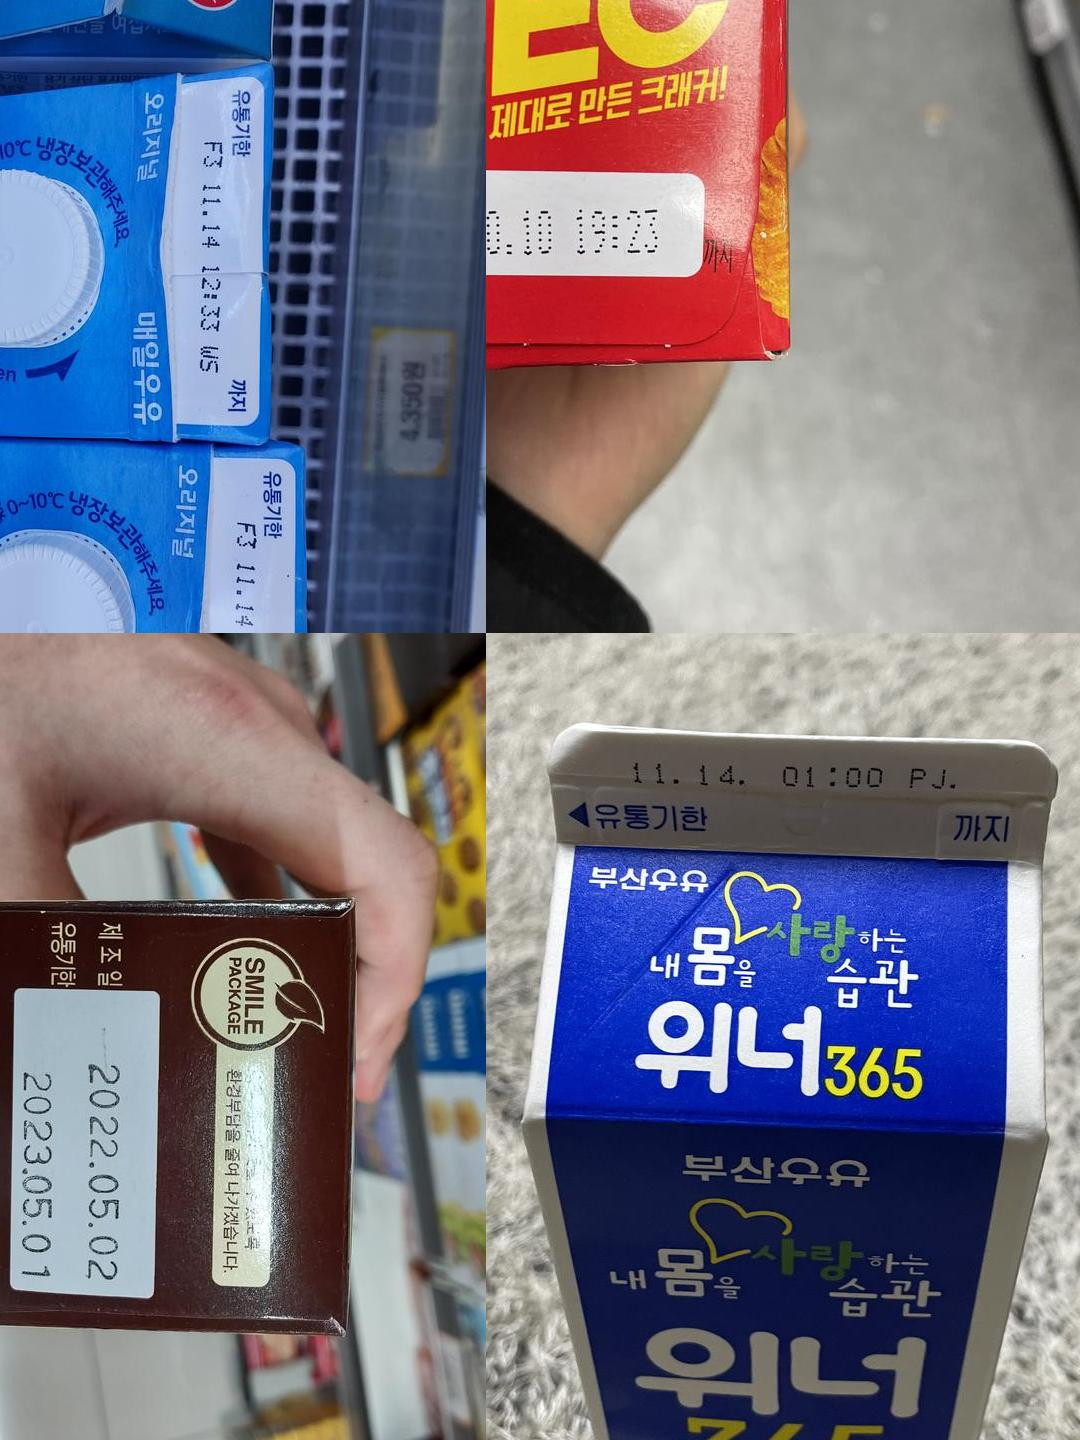milk: (545, 723, 1049, 874), (164, 86, 259, 430), (203, 460, 293, 633), (0, 28, 43, 372), (0, 403, 42, 633)
snack food: (12, 991, 147, 1298), (486, 171, 697, 276)
